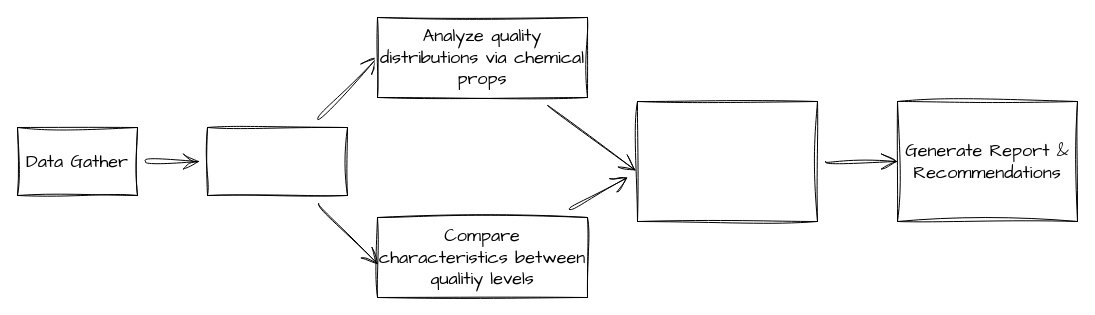
The diagram is 1095 pixels wide and 315 high, and some of its shapes have lost their labels. The shapes that lost their labels are listed below. From the top down, each one's box as (x1, y1, x2, y2) in pixels, then its label:
(206, 126, 348, 196): Data Preprocessing
(636, 100, 818, 222): Search and compare international standards
